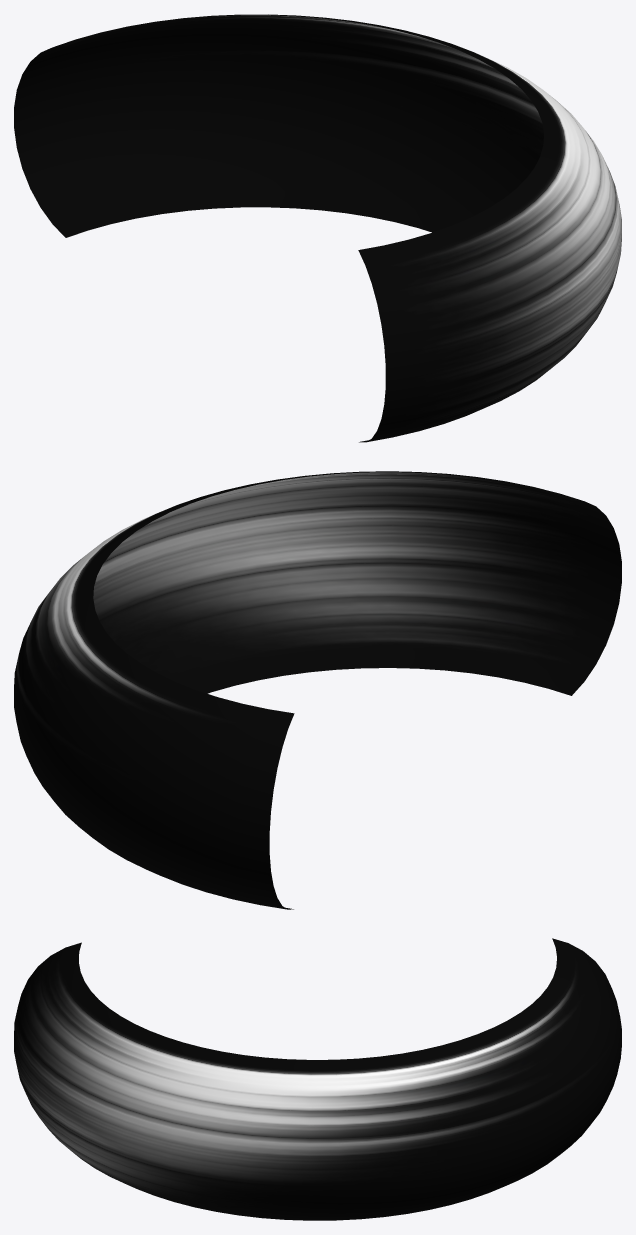
Rendered from Sm_Trail02.FBX.
The picture shows the model from 3 angles, top to bottom: view 1: azimuth 30°, elevation 25°; view 2: azimuth 150°, elevation 25°; view 3: azimuth 270°, elevation 25°; orthographic projection. The views are drawn at different scales.
Visible parts, largest first — view 1: Plane001; view 2: Plane001; view 3: Plane001.
Part boxes in pixels (<box>): Plane001: <box>14,14,621,442</box>; Plane001: <box>14,471,621,909</box>; Plane001: <box>14,938,621,1220</box>.
Bounding box in the file's own units: 102 × 49.23 × 170.
